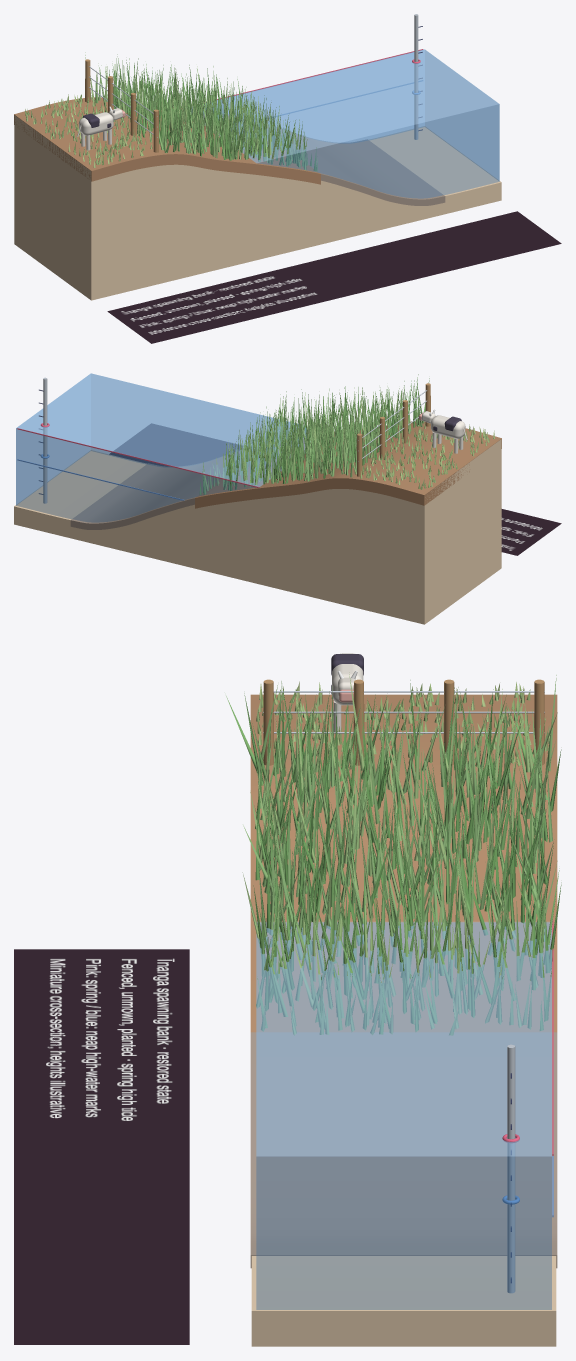
File: inanga.glb
3 views of the same model, one above another, from view 1: azimuth 30°, elevation 25°; view 2: azimuth 150°, elevation 25°; view 3: azimuth 270°, elevation 25° (orthographic). The views are drawn at different scales.
Parts seen in each view (by area): view 1: inanga_authored_teaching_model, Scale_and_credit; view 2: inanga_authored_teaching_model, Scale_and_credit; view 3: inanga_authored_teaching_model, Scale_and_credit.
Part boxes in pixels (left/top/right/bottom): inanga_authored_teaching_model: left=14, top=14, right=501, bottom=300; Scale_and_credit: left=107, top=211, right=561, bottom=343; inanga_authored_teaching_model: left=14, top=373, right=501, bottom=624; Scale_and_credit: left=109, top=423, right=561, bottom=555; inanga_authored_teaching_model: left=226, top=653, right=561, bottom=1346; Scale_and_credit: left=14, top=949, right=189, bottom=1344.
Bounding box in the file's own units: 0.581 × 0.2413 × 0.34.
917 materials, 1 textured.
